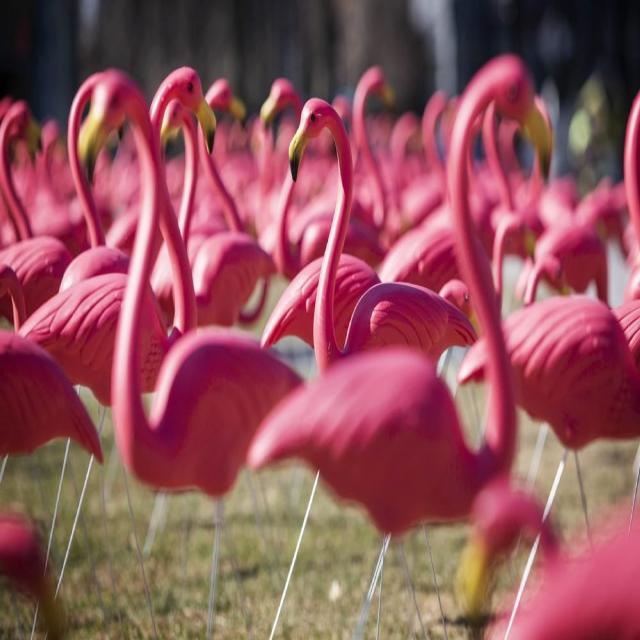Flamingo: (253, 58, 552, 506), (78, 74, 306, 502), (287, 95, 470, 369)
